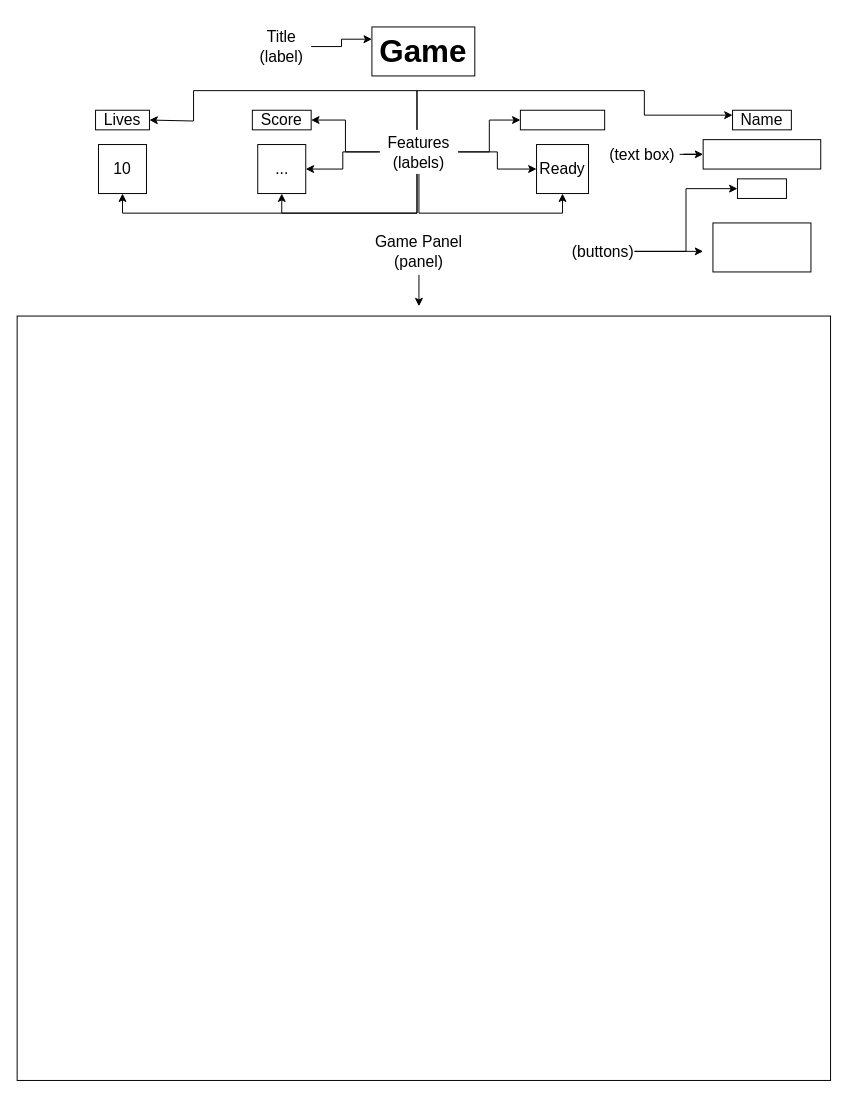
Some shapes in this 848 by 1098 pixel diagram are drawn without their labels. Here are the shapes that lost their labels. From the top down, the centre of each, then its label:
At (x=562, y=119): "Cannon".
At (x=761, y=188): "Confirm".
At (x=761, y=247): "Check For Highscore".
